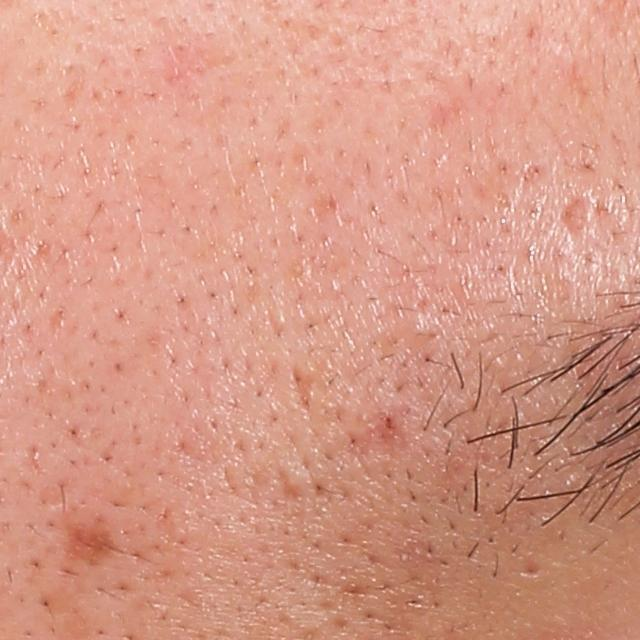atrophic_scar: (282, 358, 322, 422), (555, 191, 593, 253), (519, 556, 551, 582)
